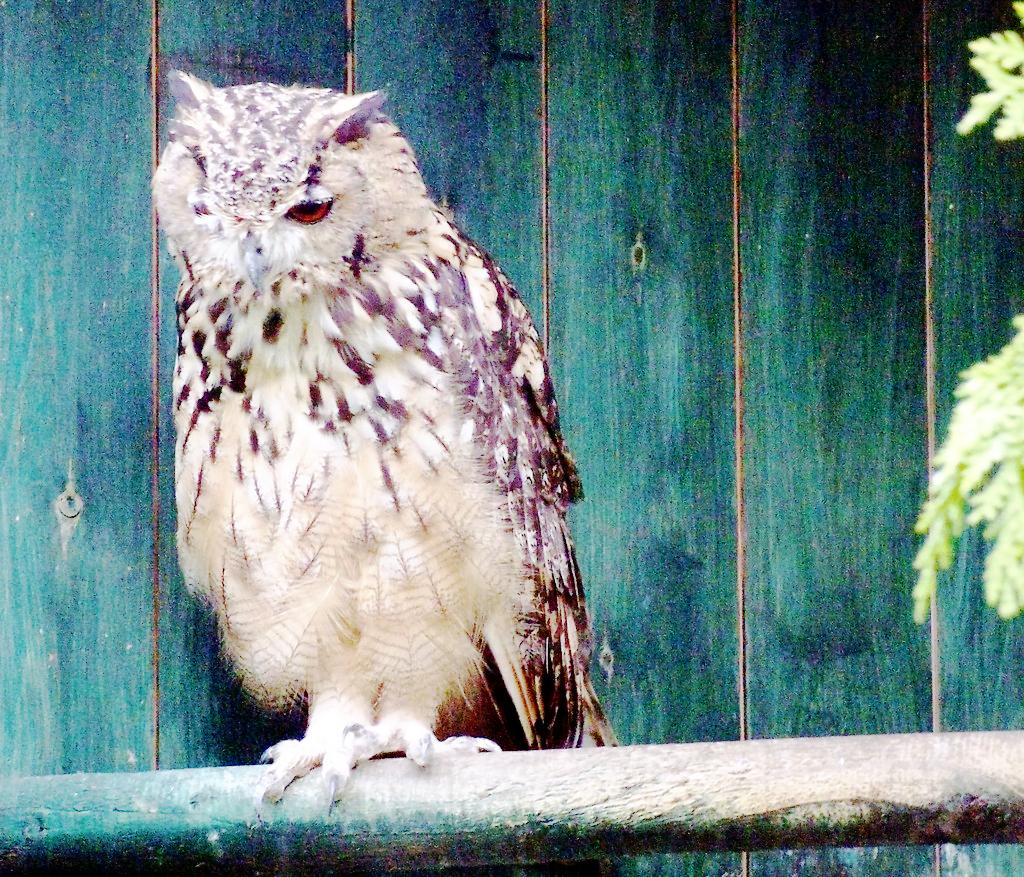Owl: (150, 61, 616, 812)
